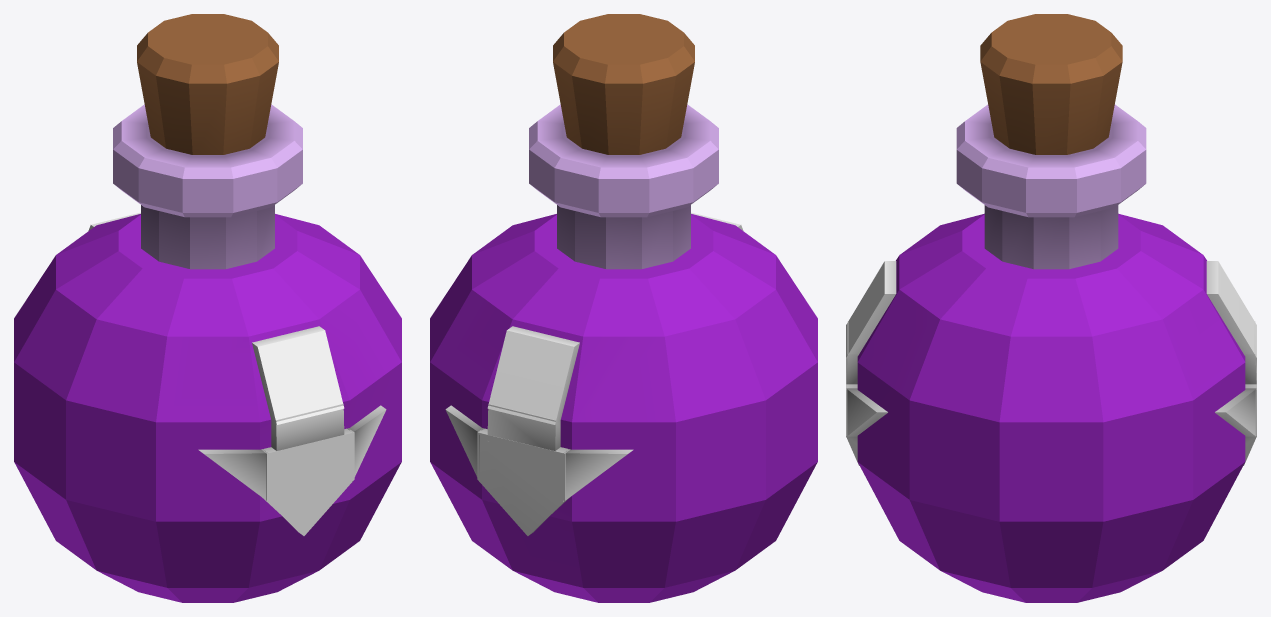
Rendered from power-shrink.glb.
The picture shows the model from 3 angles, left to right: view 1: azimuth 30°, elevation 25°; view 2: azimuth 150°, elevation 25°; view 3: azimuth 270°, elevation 25°; orthographic projection.
Parts seen in each view (by area): view 1: shrink-ray; view 2: shrink-ray; view 3: shrink-ray.
Part boxes in pixels (left/top/right/bottom): shrink-ray: left=14, top=14, right=401, bottom=602; shrink-ray: left=430, top=14, right=817, bottom=602; shrink-ray: left=846, top=14, right=1256, bottom=602.
Size of the model in its own units: 0.2685 by 0.4 by 0.2845.
Materials: 1 (1 with a texture image).
